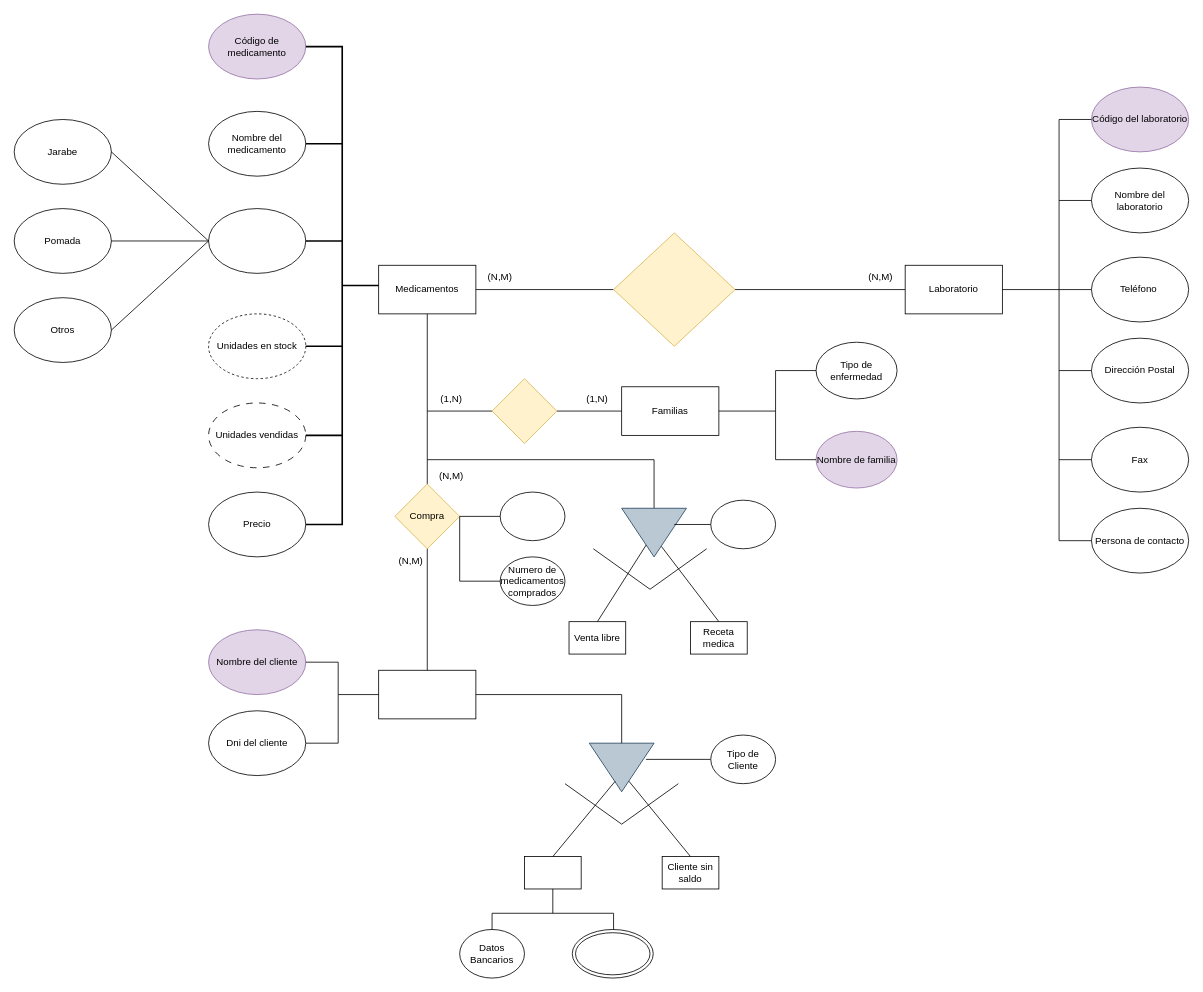
This 1203x992 diagram has some shape labels left out. The centre of each missing label's shape, as x and y in pixels:
"Cliente con saldo" belongs at point 552,872.
"Clientes" belongs at point 427,694.
"Fecha de compra" belongs at point 532,516.
"Fecha de pago" belongs at point 612,953.
"Se agrupan" belongs at point 524,410.
"Tipo de venta" belongs at point 743,524.
"Tipo del medicamento" belongs at point 257,240.
"Vender-comprar" belongs at point 674,289.
